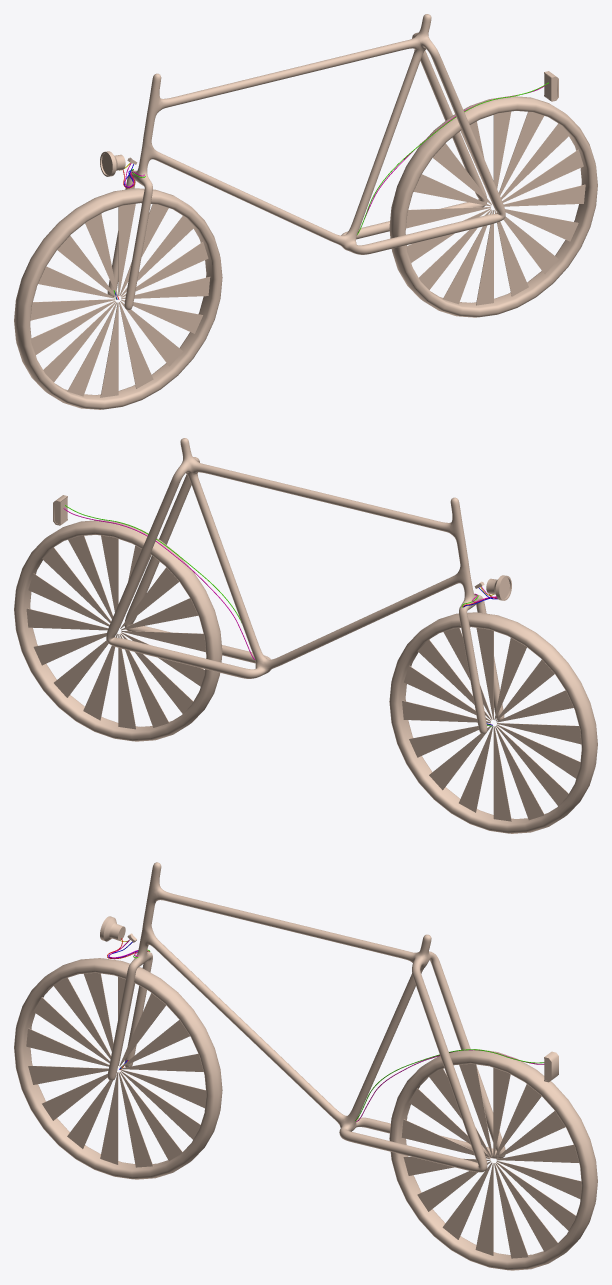
The model's file is bike.glb.
3 renders of one model, top to bottom at view 1: azimuth 30°, elevation 25°; view 2: azimuth 150°, elevation 25°; view 3: azimuth 330°, elevation 25°, orthographic.
Visible parts, largest first — view 1: frame.001; view 2: frame.001; view 3: frame.001.
Boxes of the visible parts, bbox=[...] form: frame.001: bbox=[14, 14, 597, 409]; frame.001: bbox=[14, 438, 597, 833]; frame.001: bbox=[14, 862, 597, 1270].
Bounding box in the file's own units: 1.65 × 0.8751 × 0.115.
